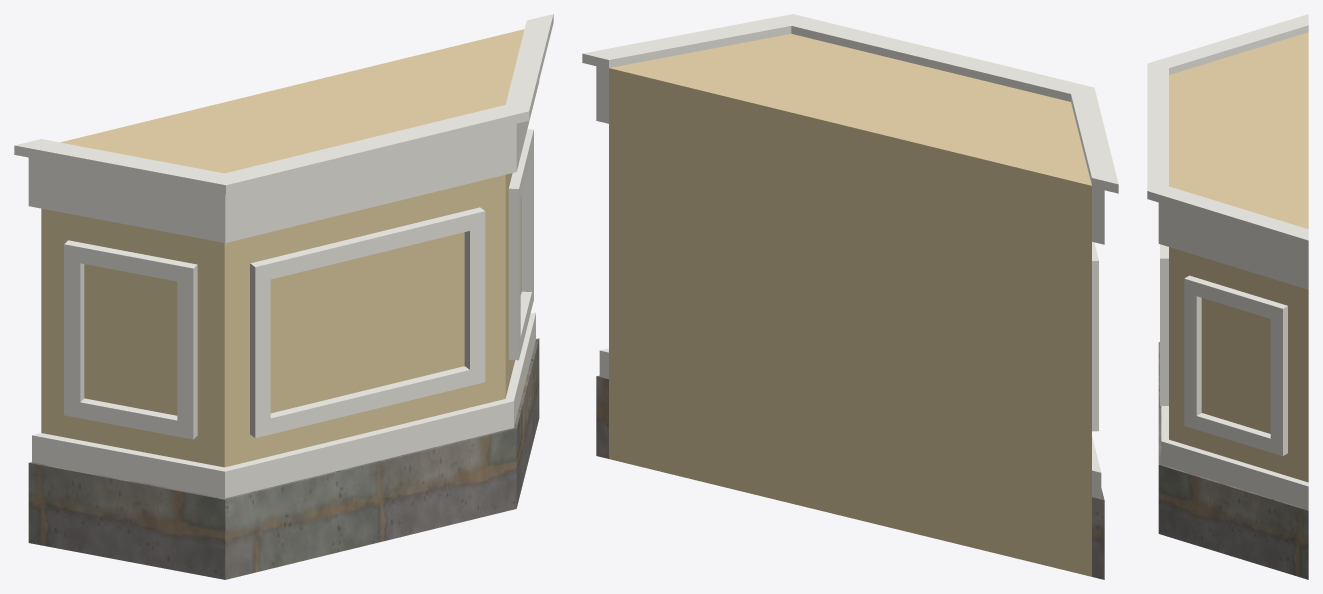
Rendered from bay_base_c.glb.
3 views of the same model, side by side, from view 1: azimuth 30°, elevation 25°; view 2: azimuth 150°, elevation 25°; view 3: azimuth 270°, elevation 25° (orthographic). The views are drawn at different scales.
Parts seen in each view (by area): view 1: bay_base_c_acc_c, bay_base_c_trim, bay_base_c_plinth; view 2: bay_base_c_acc_c, bay_base_c_trim, bay_base_c_plinth; view 3: bay_base_c_acc_c, bay_base_c_trim, bay_base_c_plinth.
Boxes of the visible parts, box(x1,y1,x2,y2) form: bay_base_c_acc_c: box(41, 29, 524, 467); bay_base_c_trim: box(14, 14, 553, 498); bay_base_c_plinth: box(28, 338, 539, 579); bay_base_c_acc_c: box(609, 34, 1091, 576); bay_base_c_trim: box(582, 14, 1118, 499); bay_base_c_plinth: box(596, 375, 1104, 579); bay_base_c_acc_c: box(1169, 32, 1308, 482); bay_base_c_trim: box(1147, 14, 1308, 509); bay_base_c_plinth: box(1158, 342, 1308, 579).
Size of the model in its own units: 2.11 by 1.5 by 0.635.
3 materials, 1 textured.
